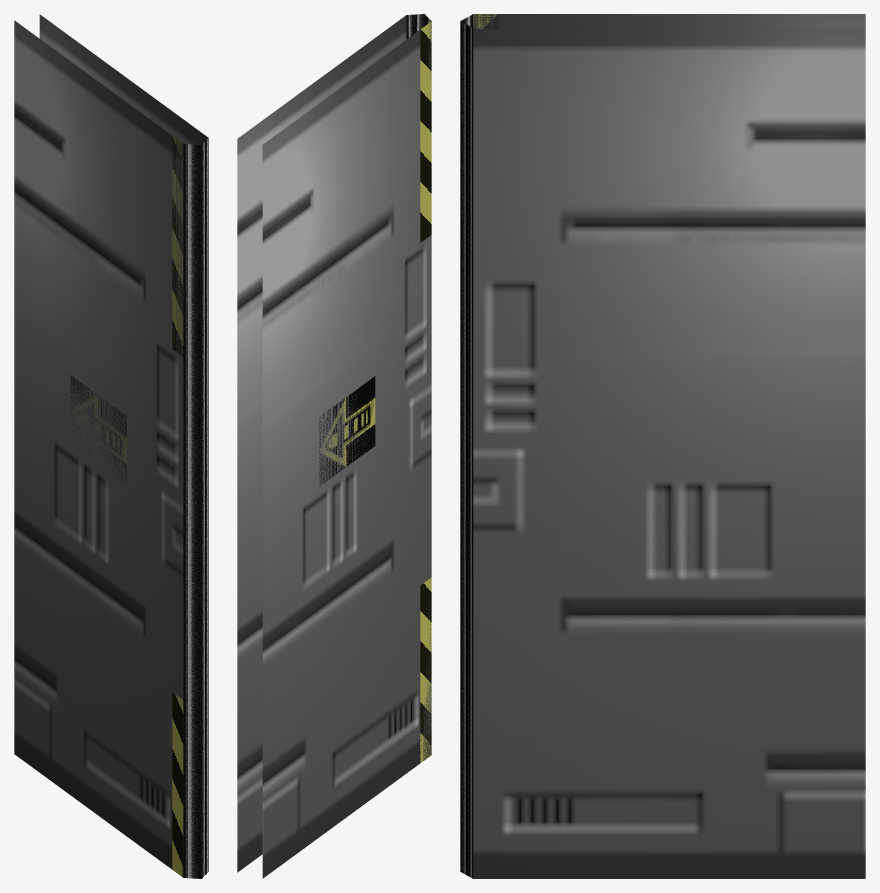
Rendered from primary_155.glb.
3 views of the same model, side by side, from view 1: azimuth 30°, elevation 25°; view 2: azimuth 150°, elevation 25°; view 3: azimuth 270°, elevation 25° (orthographic). The views are drawn at different scales.
Parts seen in each view (by area): view 1: Object; view 2: Object; view 3: Object.
Part boxes in pixels (box(x1,y1,x2,y2)): Object: box(14, 14, 208, 878); Object: box(237, 14, 431, 878); Object: box(460, 14, 865, 878).
Size of the model in its own units: 0.1049 by 2.92 by 1.26.
Materials: 6 (6 with a texture image).
